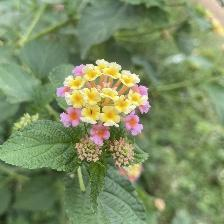common lanthana: (52, 60, 154, 138)
